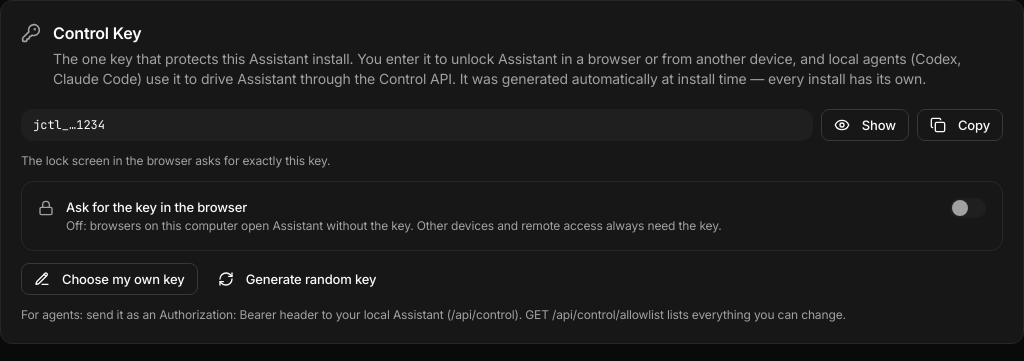
Test: JarvisApiGroup › reveals the full key when Show is clicked
The image size is (1024, 361).
Expected: the text "jctl_…1234" is shown, [21,109,813,141]
Click the button "Show".
click(865, 125)  # box [821,109,909,141]
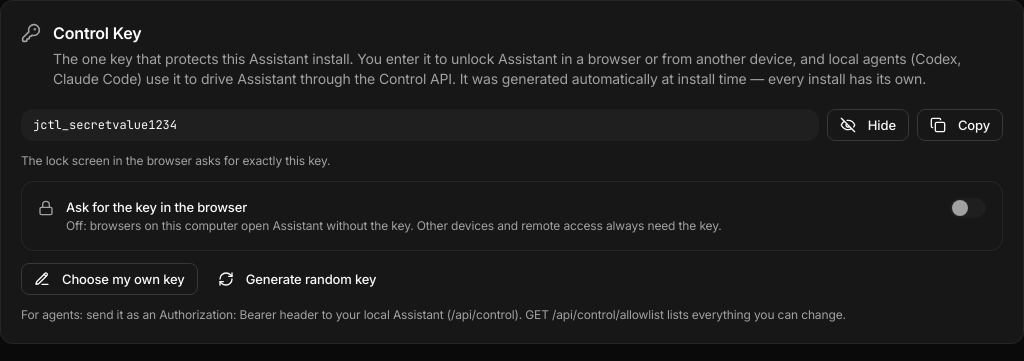
Expected: the text "jctl_secretvalue1234" is shown, [21,109,819,141]
